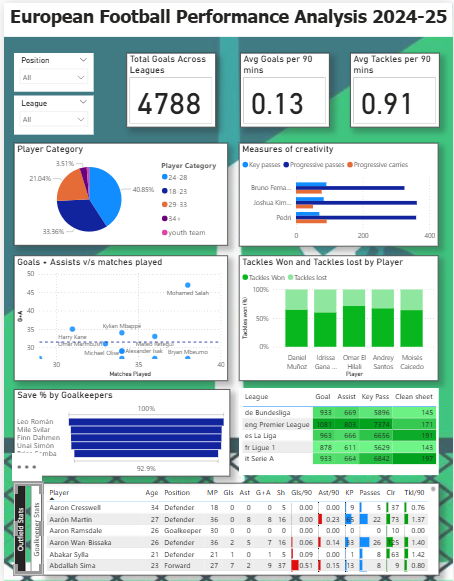

This screenshot's page, from the dashboard's own definition file:
{"tool":"powerbi","page":{"name":"Page 1","canvas":[816,1056],"ordinal":0},"visuals":[{"type":"textbox","box":[0,0,816.2,61.2],"z":0},{"type":"slicer","fields":{"Values":["players_data.Position_new"]},"box":[18.6,91,144.8,70.1],"z":1000},{"type":"slicer","fields":{"Values":["players_data.Comp"]},"box":[18.6,168.1,144.7,71.1],"z":2000},{"type":"tableEx","title":"Outfield Table","fields":{"Values":["players_data.Player","players_data.Age","players_data.Position_new","players_data.MP","players_data.Gls","players_data.Ast","players_data.G+A","players_data.Sh","players_data.Gls/90","players_data.Ast/90","players_data.KP","players_data.Pass"]},"box":[70.5,871.6,720.5,168.2],"z":3000},{"type":"scatterChart","title":"Goals + Assists v/s matches played","fields":{"Category":["players_data.Player","players_data.Squad"],"X":["Sum(players_data.MP)"],"Y":["Sum(players_data.G+A)"]},"box":[17.6,459.5,389.2,228.4],"z":4000},{"type":"pieChart","title":" Player Category","fields":{"Category":["players_data.Player Category"],"Y":["CountNonNull(players_data.Player Category)"]},"box":[18.2,255.5,389.1,186.4],"z":5000},{"type":"clusteredBarChart","title":"Measures of creativity","fields":{"Category":["players_data.Player"],"Y":["Sum(players_data.KP)","Sum(players_data.PrgP)","Sum(players_data.PrgC)"]},"box":[428.2,253.6,362.7,188.2],"z":6000},{"type":"hundredPercentStackedColumnChart","fields":{"Category":["players_data.Player"],"Y":["Sum(players_data.TklW)","Sum(players_data.tackle lost)"]},"box":[428.2,460,362.7,228.2],"z":7000},{"type":"funnel","title":"Save % by Goalkeepers","fields":{"Category":["players_data.Player"],"Y":["Avg(players_data.Save%)"]},"box":[17.9,701.5,392.5,158.2],"z":8000},{"type":"cardVisual","title":"Avg Goals per 90 mins ","fields":{"Data":["players_data.Goals per 90"]},"box":[428.4,90.9,162.5,135.2],"z":9000},{"type":"cardVisual","title":"Avg Tackles per 90 mins","fields":{"Data":["players_data.Avg Tackles/90"]},"box":[628.4,90.9,162.5,135.2],"z":10000},{"type":"cardVisual","title":"Total Goals Across Leagues","fields":{"Data":["players_data.total goals"]},"box":[222.7,90.9,162.5,135.2],"z":11000},{"type":"bookmarkNavigator","box":[19,872,51,168],"z":13000},{"type":"tableEx","fields":{"Values":["players_data.League","Sum(players_data.Gls)","Sum(players_data.Ast)","Sum(players_data.KP)","Sum(players_data.CS)"]},"box":[428,701,363,158],"z":14000}]}

Visuals, with their boxes in screenshot pixels (x1, y1, x2, y2), scaled from the page's 816x1056 canvas onto the 454x581 screenshot:
textbox: (left=0, top=0, right=453, bottom=34)
slicer - players_data.Position_new: (left=10, top=50, right=91, bottom=89)
slicer - players_data.Comp: (left=10, top=92, right=91, bottom=132)
"Outfield Table" tableEx: (left=39, top=480, right=440, bottom=572)
"Goals + Assists v/s matches played" scatterChart: (left=10, top=253, right=226, bottom=378)
" Player Category" pieChart: (left=10, top=141, right=227, bottom=243)
"Measures of creativity" clusteredBarChart: (left=238, top=140, right=440, bottom=243)
hundredPercentStackedColumnChart - players_data.Player x Sum(players_data.TklW): (left=238, top=253, right=440, bottom=379)
"Save % by Goalkeepers" funnel: (left=10, top=386, right=228, bottom=473)
"Avg Goals per 90 mins " cardVisual: (left=238, top=50, right=329, bottom=124)
"Avg Tackles per 90 mins" cardVisual: (left=350, top=50, right=440, bottom=124)
"Total Goals Across Leagues" cardVisual: (left=124, top=50, right=214, bottom=124)
bookmarkNavigator: (left=11, top=480, right=39, bottom=572)
tableEx - players_data.League x Sum(players_data.Gls): (left=238, top=386, right=440, bottom=473)
